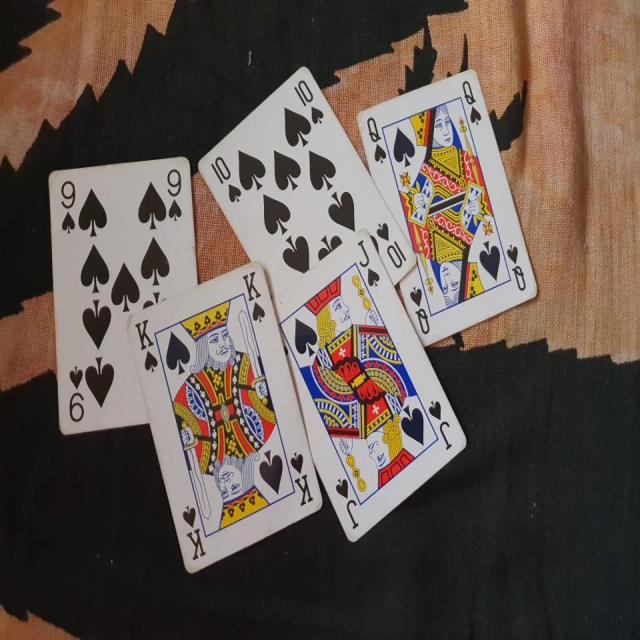10 Spades: (193, 55, 420, 344)
9 Spades: (34, 138, 211, 450)
J Spades: (260, 236, 473, 550)
K Spades: (127, 255, 324, 583)
Q Spades: (361, 59, 544, 350)
